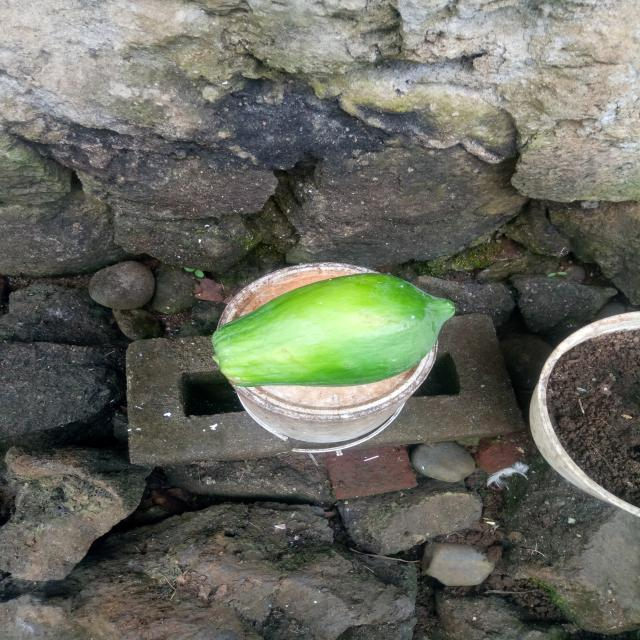Pepaya unrippen: (200, 273, 459, 387)
